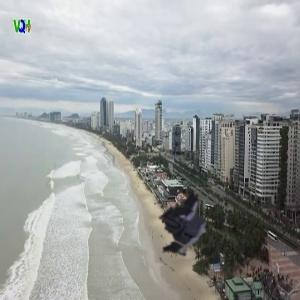drone: (141, 184, 234, 277)
